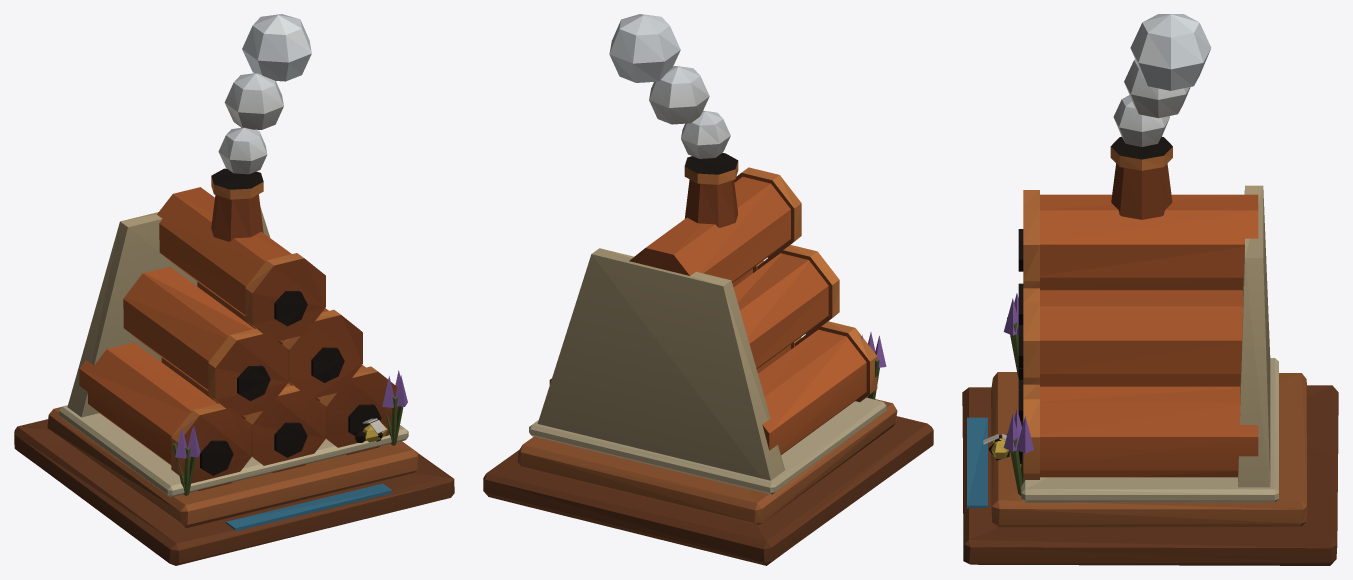
File: drowsy_clay_hive.glb
3 renders of one model, left to right at view 1: azimuth 30°, elevation 25°; view 2: azimuth 150°, elevation 25°; view 3: azimuth 270°, elevation 25°, orthographic. The views are drawn at different scales.
Visible parts, largest first — view 1: drowsy_clay_hive; view 2: drowsy_clay_hive; view 3: drowsy_clay_hive.
Part boxes in pixels (x1,y1,x2,y2): drowsy_clay_hive: (14, 14, 454, 565); drowsy_clay_hive: (483, 14, 933, 565); drowsy_clay_hive: (962, 14, 1338, 565).
Bounding box in the file's own units: 0.9064 × 1.34 × 0.9047.
